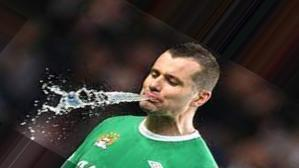spitting: (32, 6, 239, 168)
